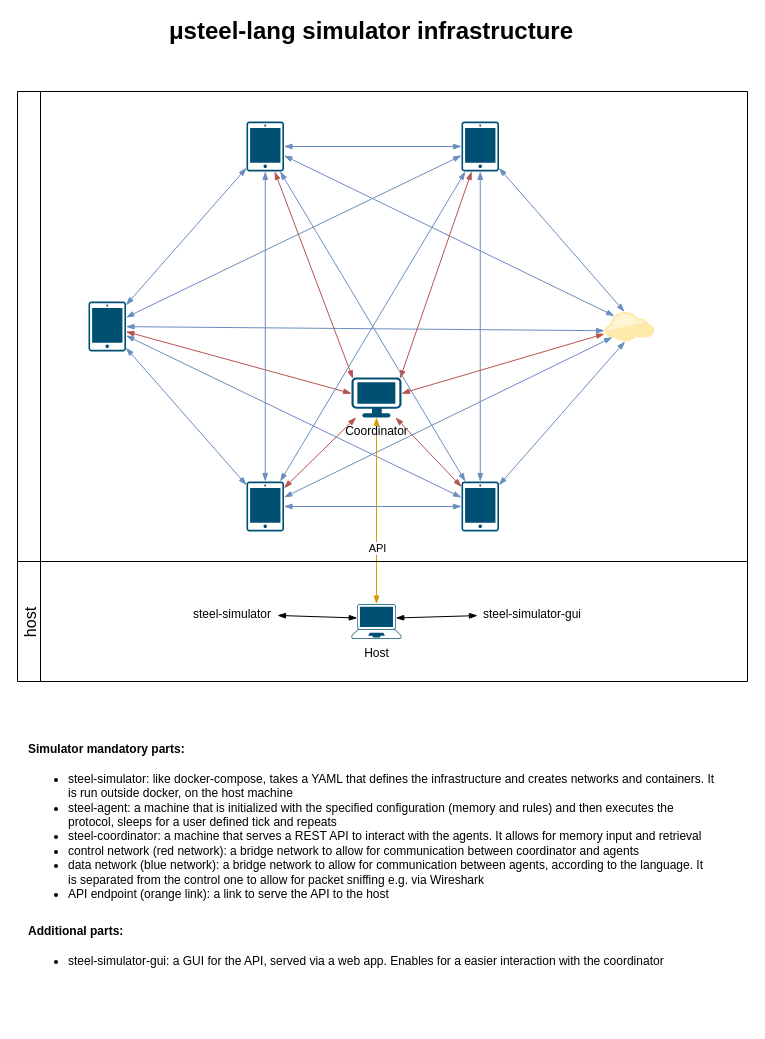
This 765x1039 diagram has some shape labels left out. The shapes that lost their labels are listed below. From the top down, each one's box as (x1, y1, x2, y2) in pixels, then its label:
(16, 90, 748, 562): docker
(604, 311, 654, 341): Other agents
